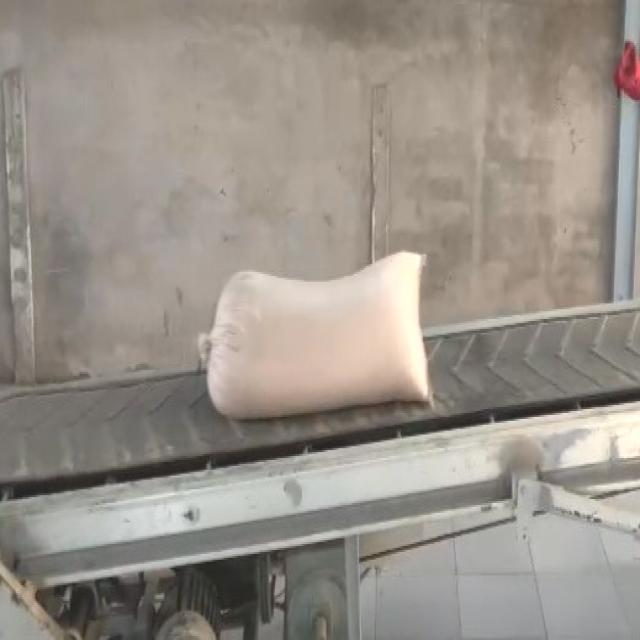gunny_bag: (206, 252, 430, 418)
